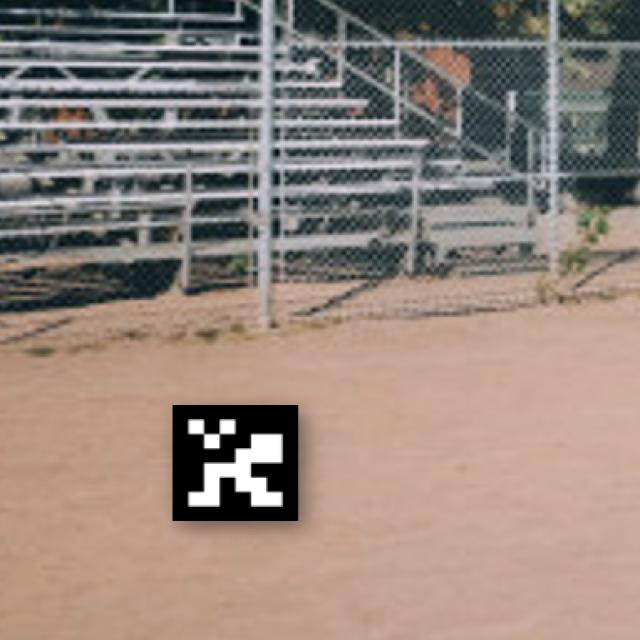marker: (160, 393, 317, 532)
